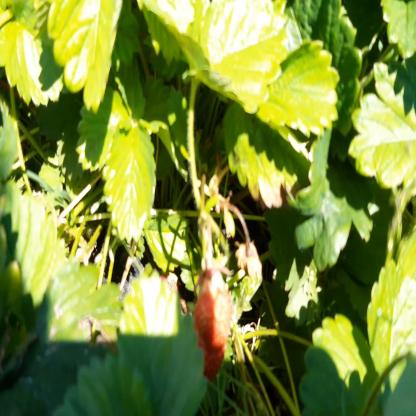ripe: (194, 271, 233, 359), (157, 271, 188, 320), (198, 330, 223, 386)
